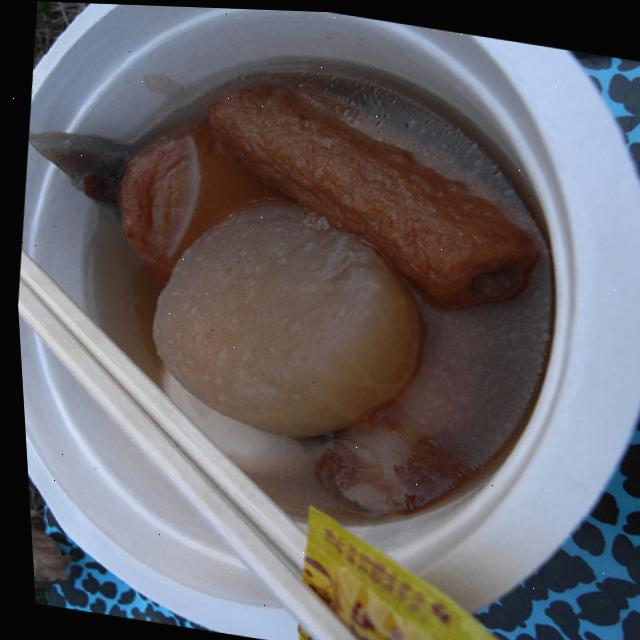汤锅炖物: (2, 40, 567, 537)
